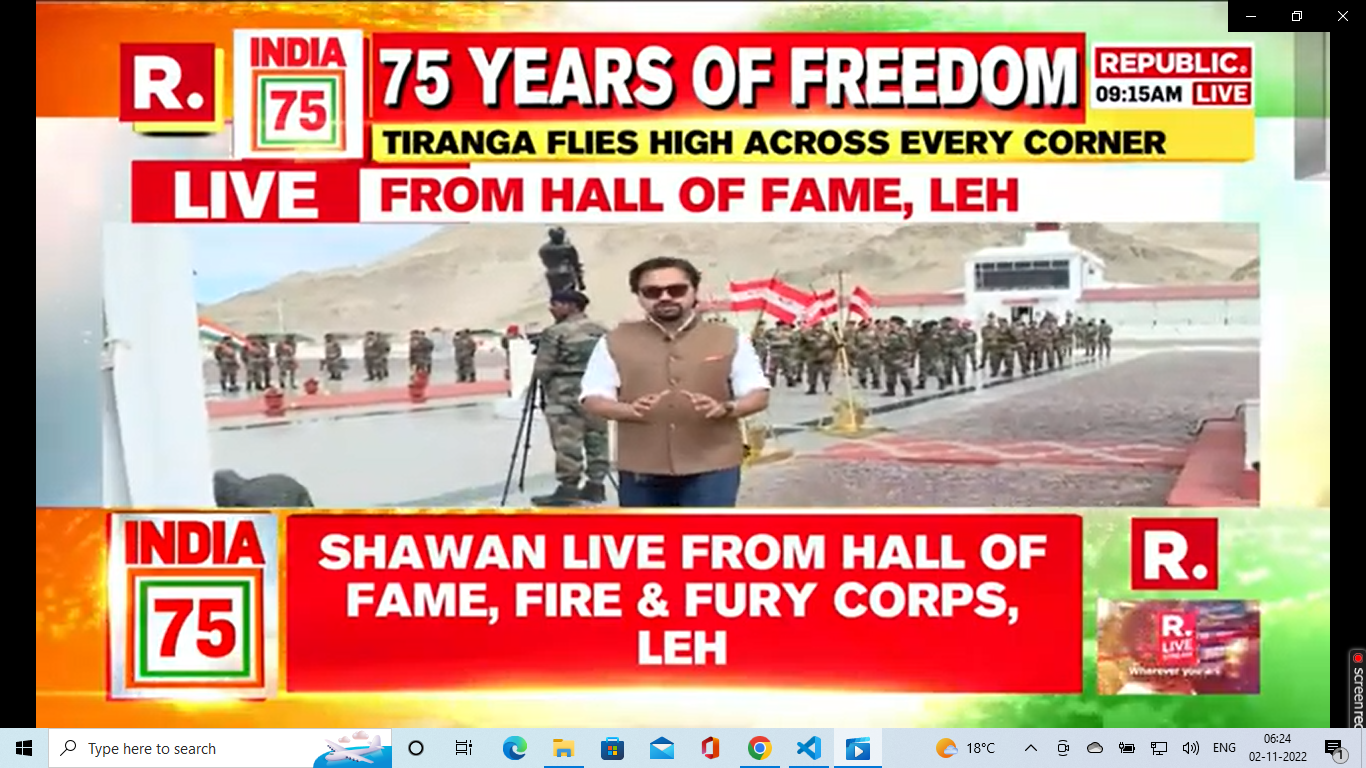Indi75: (110, 513, 280, 701), (231, 26, 362, 157)
person: (589, 263, 749, 512)
